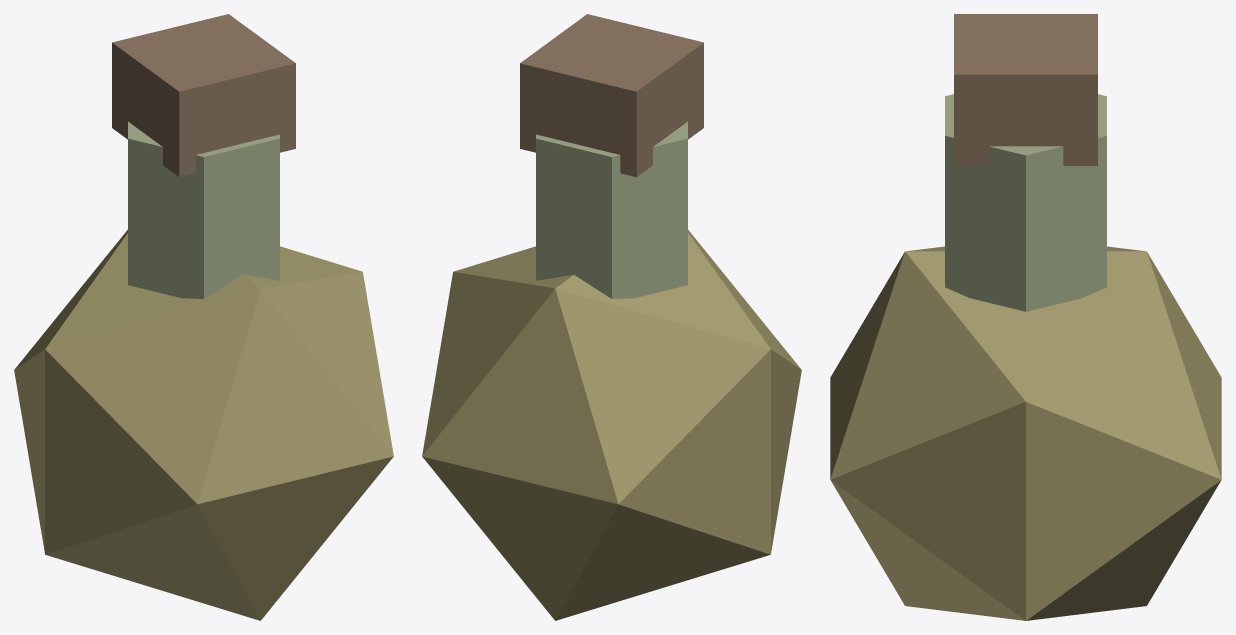
File: potion_blue.glb
3 renders of one model, left to right at view 1: azimuth 30°, elevation 25°; view 2: azimuth 150°, elevation 25°; view 3: azimuth 270°, elevation 25°, orthographic. The views are drawn at different scales.
Parts seen in each view (by area): view 1: Flask, Cork, Neck; view 2: Flask, Cork, Neck; view 3: Flask, Neck, Cork.
Boxes of the visible parts, bbox=[...] form: Flask: bbox=[14, 230, 393, 620]; Cork: bbox=[112, 14, 295, 177]; Neck: bbox=[128, 121, 279, 298]; Flask: bbox=[422, 230, 801, 620]; Cork: bbox=[520, 14, 703, 177]; Neck: bbox=[536, 121, 687, 298]; Flask: bbox=[830, 246, 1221, 620]; Neck: bbox=[945, 94, 1106, 311]; Cork: bbox=[954, 14, 1097, 165].
Size of the model in its own units: 0.2722 by 0.4311 by 0.2722.
